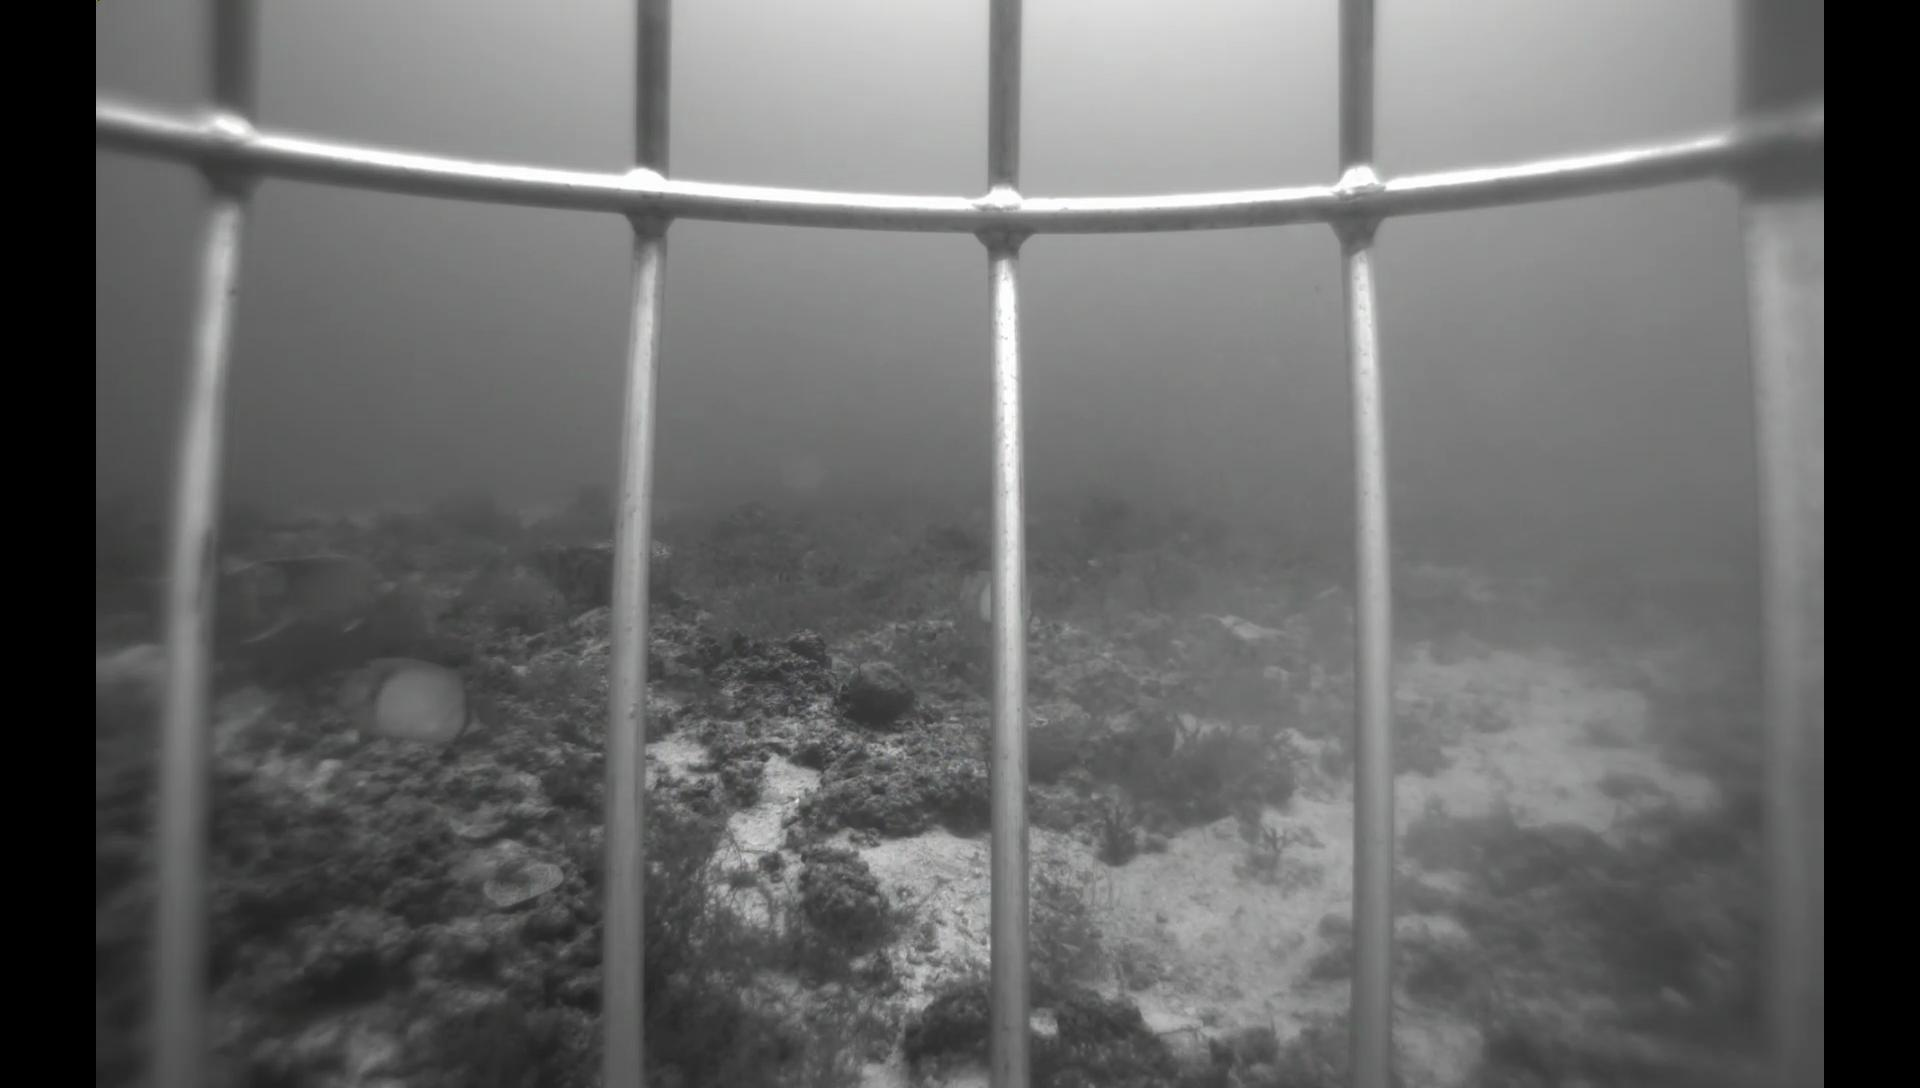CHAETODONOCELLATUS-170260307: (332, 649, 493, 760), (947, 567, 1042, 634)
HOLACANTHUSBERMUDENSIS-170290102: (233, 543, 409, 657)
MYCTEROPERCAPHENAX-170022105: (943, 493, 992, 551)
